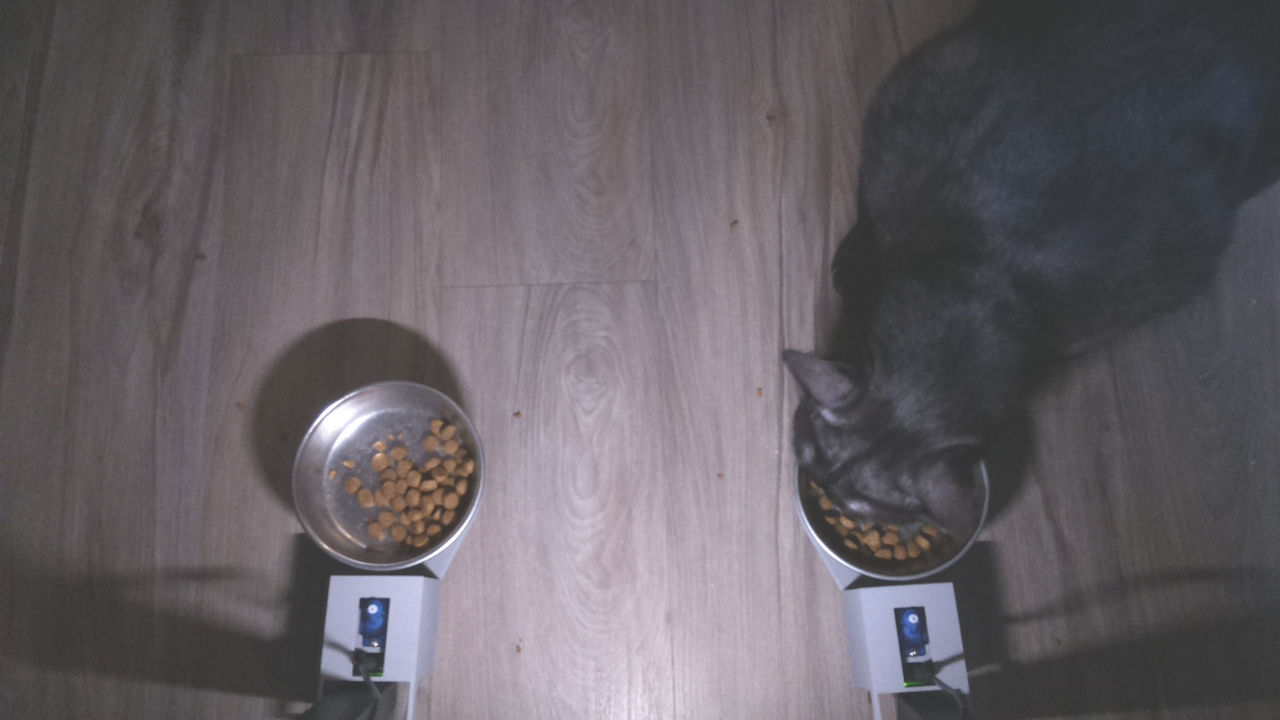open_bowl: (284, 377, 487, 576)
saki_eating: (763, 294, 1026, 591)
